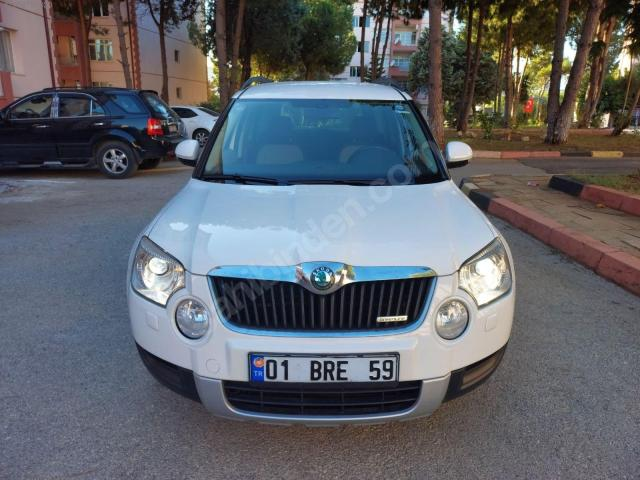plaka: (250, 354, 398, 382)
